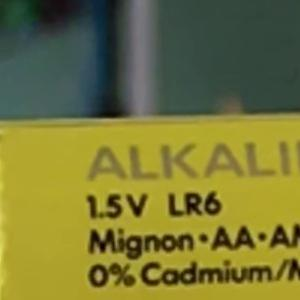keyword: (84, 137, 200, 179), (158, 181, 232, 227)
